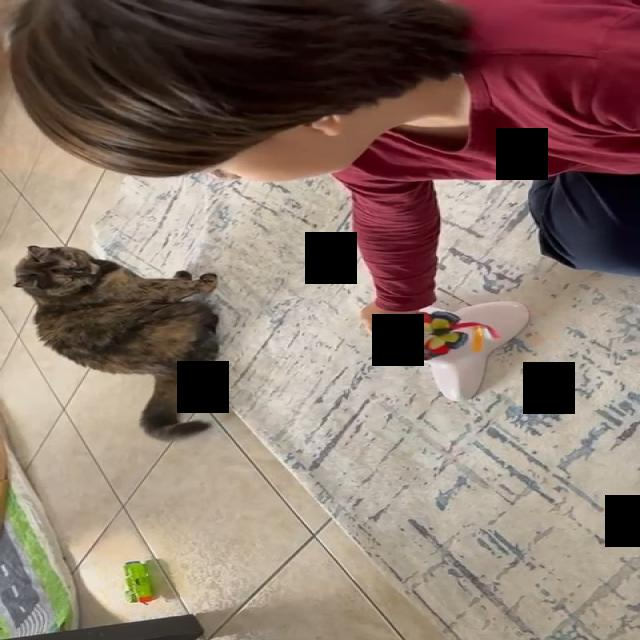authorized: (12, 244, 220, 440)
